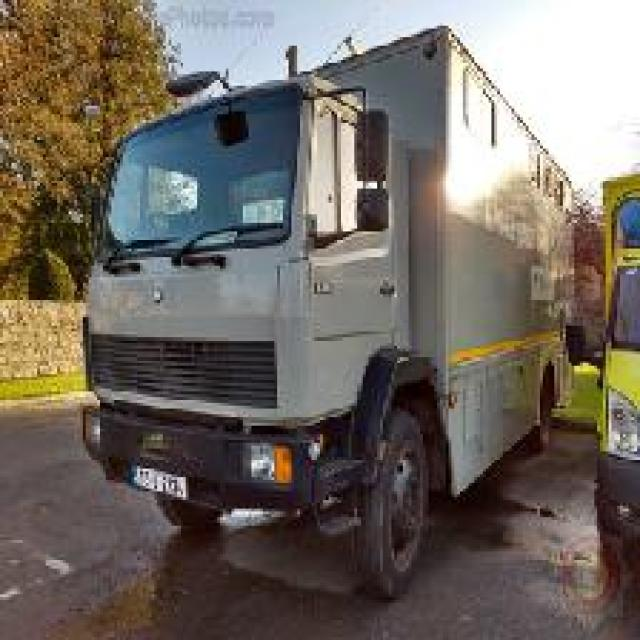Truck: (77, 23, 577, 597)
